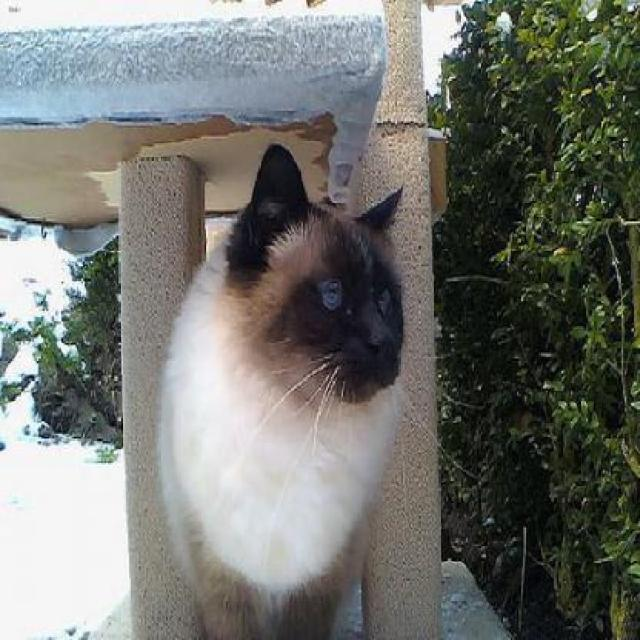cat: (159, 142, 406, 638)
